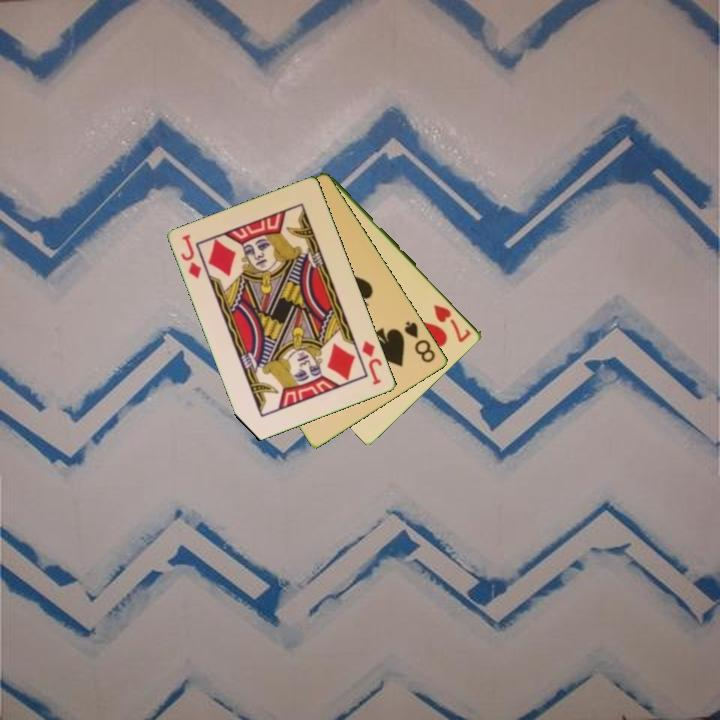7h: (430, 301, 474, 346)
8s: (401, 318, 439, 366)
Jd: (358, 337, 385, 388), (178, 231, 205, 282)
